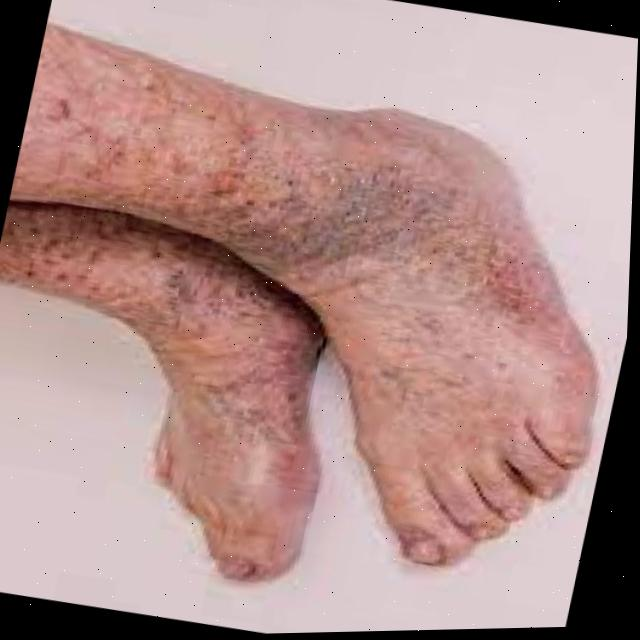Eczema: (0, 26, 562, 491)
